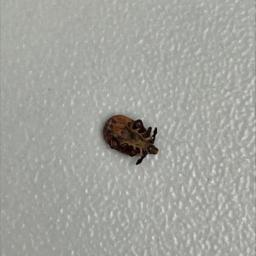Rhipicephalus sanguineus: (102, 115, 159, 165)
